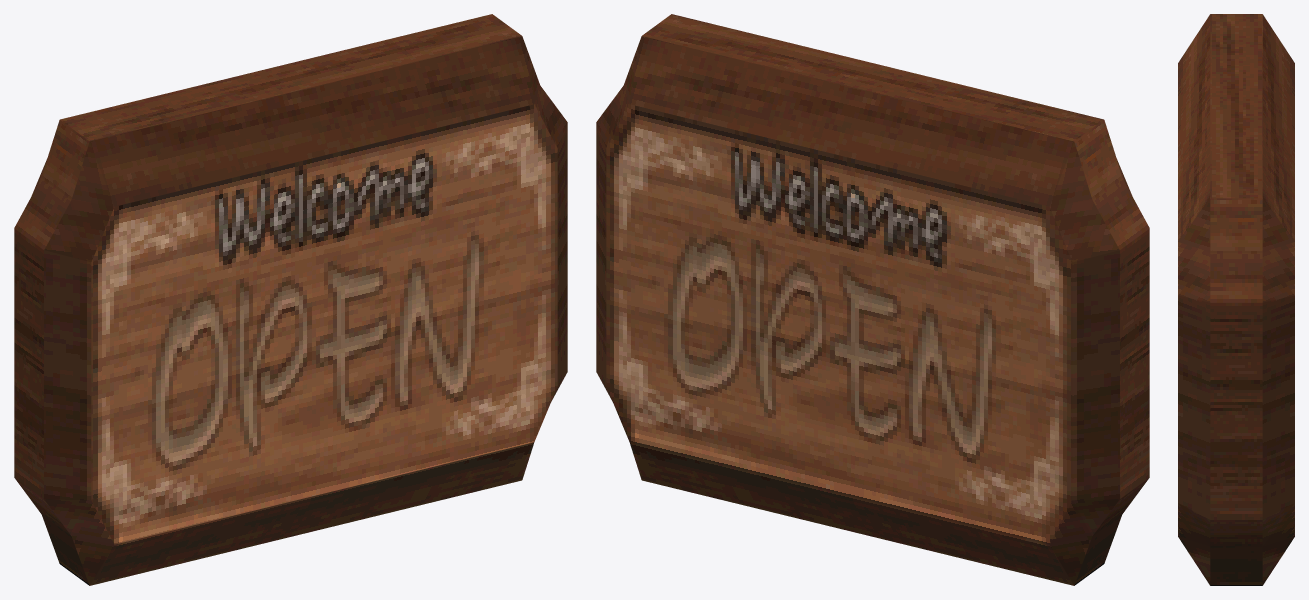
The model's file is ps2_save-icons_simple2000seriesvol19therenaisimulationwatashiniomacafe.glb.
The picture shows the model from 3 angles, left to right: view 1: azimuth 30°, elevation 25°; view 2: azimuth 150°, elevation 25°; view 3: azimuth 270°, elevation 25°; orthographic projection. The views are drawn at different scales.
Visible parts, largest first — view 1: icon1.ico; view 2: icon1.ico; view 3: icon1.ico.
Boxes of the visible parts, box(x1,y1,x2,y2) form: icon1.ico: box(14, 14, 567, 585); icon1.ico: box(596, 14, 1149, 585); icon1.ico: box(1178, 14, 1294, 585).
Size of the model in its own units: 3.19 by 2.58 by 0.7061.
1 material, 1 textured.
